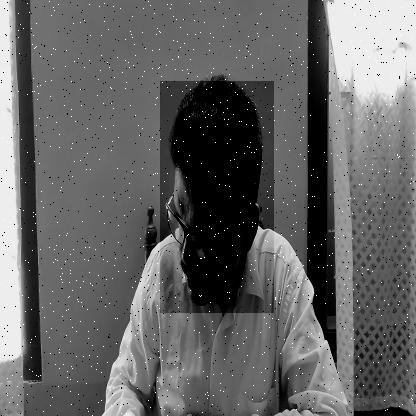Distracted: (160, 81, 274, 313)
